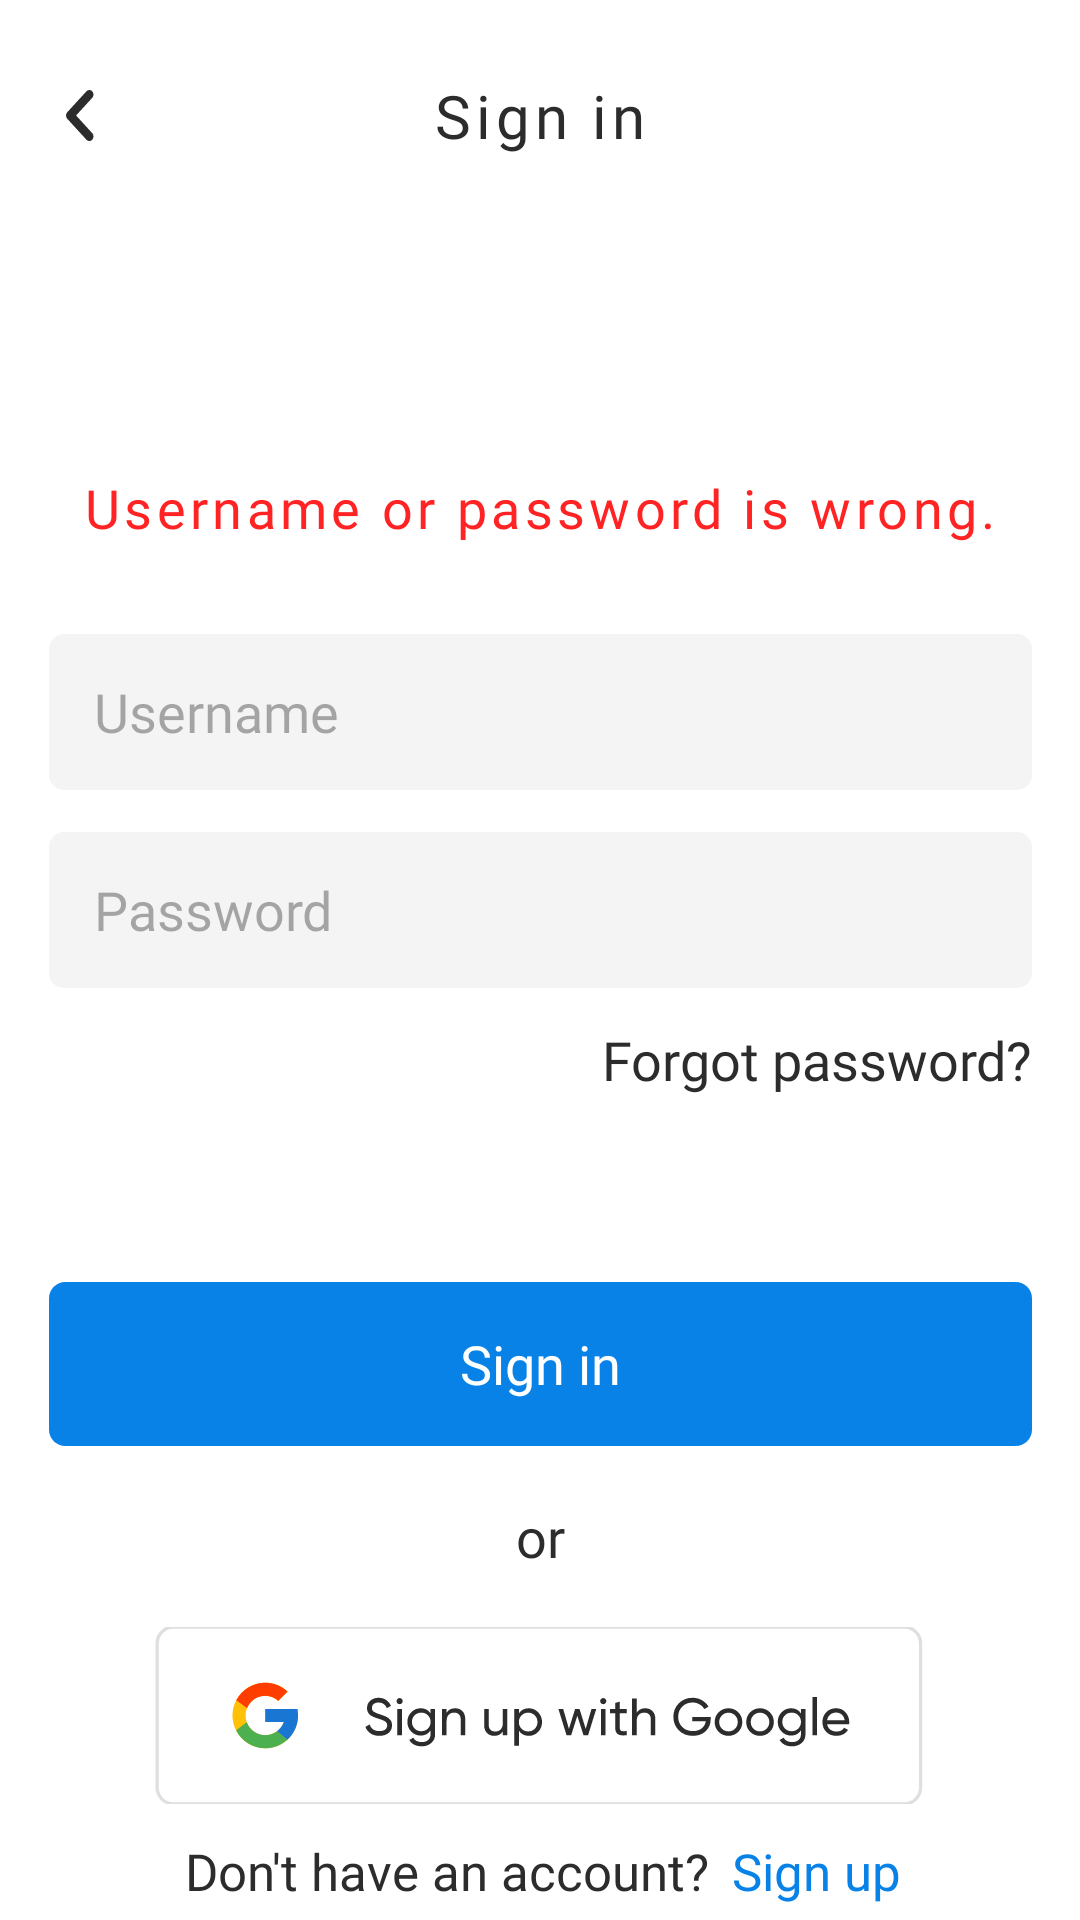

Named icons in this screenshot (1080 x 1920) and their bounding boxes, (left=x1, top=y1, right=x2, bottom=y2):
back: (left=66, top=90, right=94, bottom=141)
